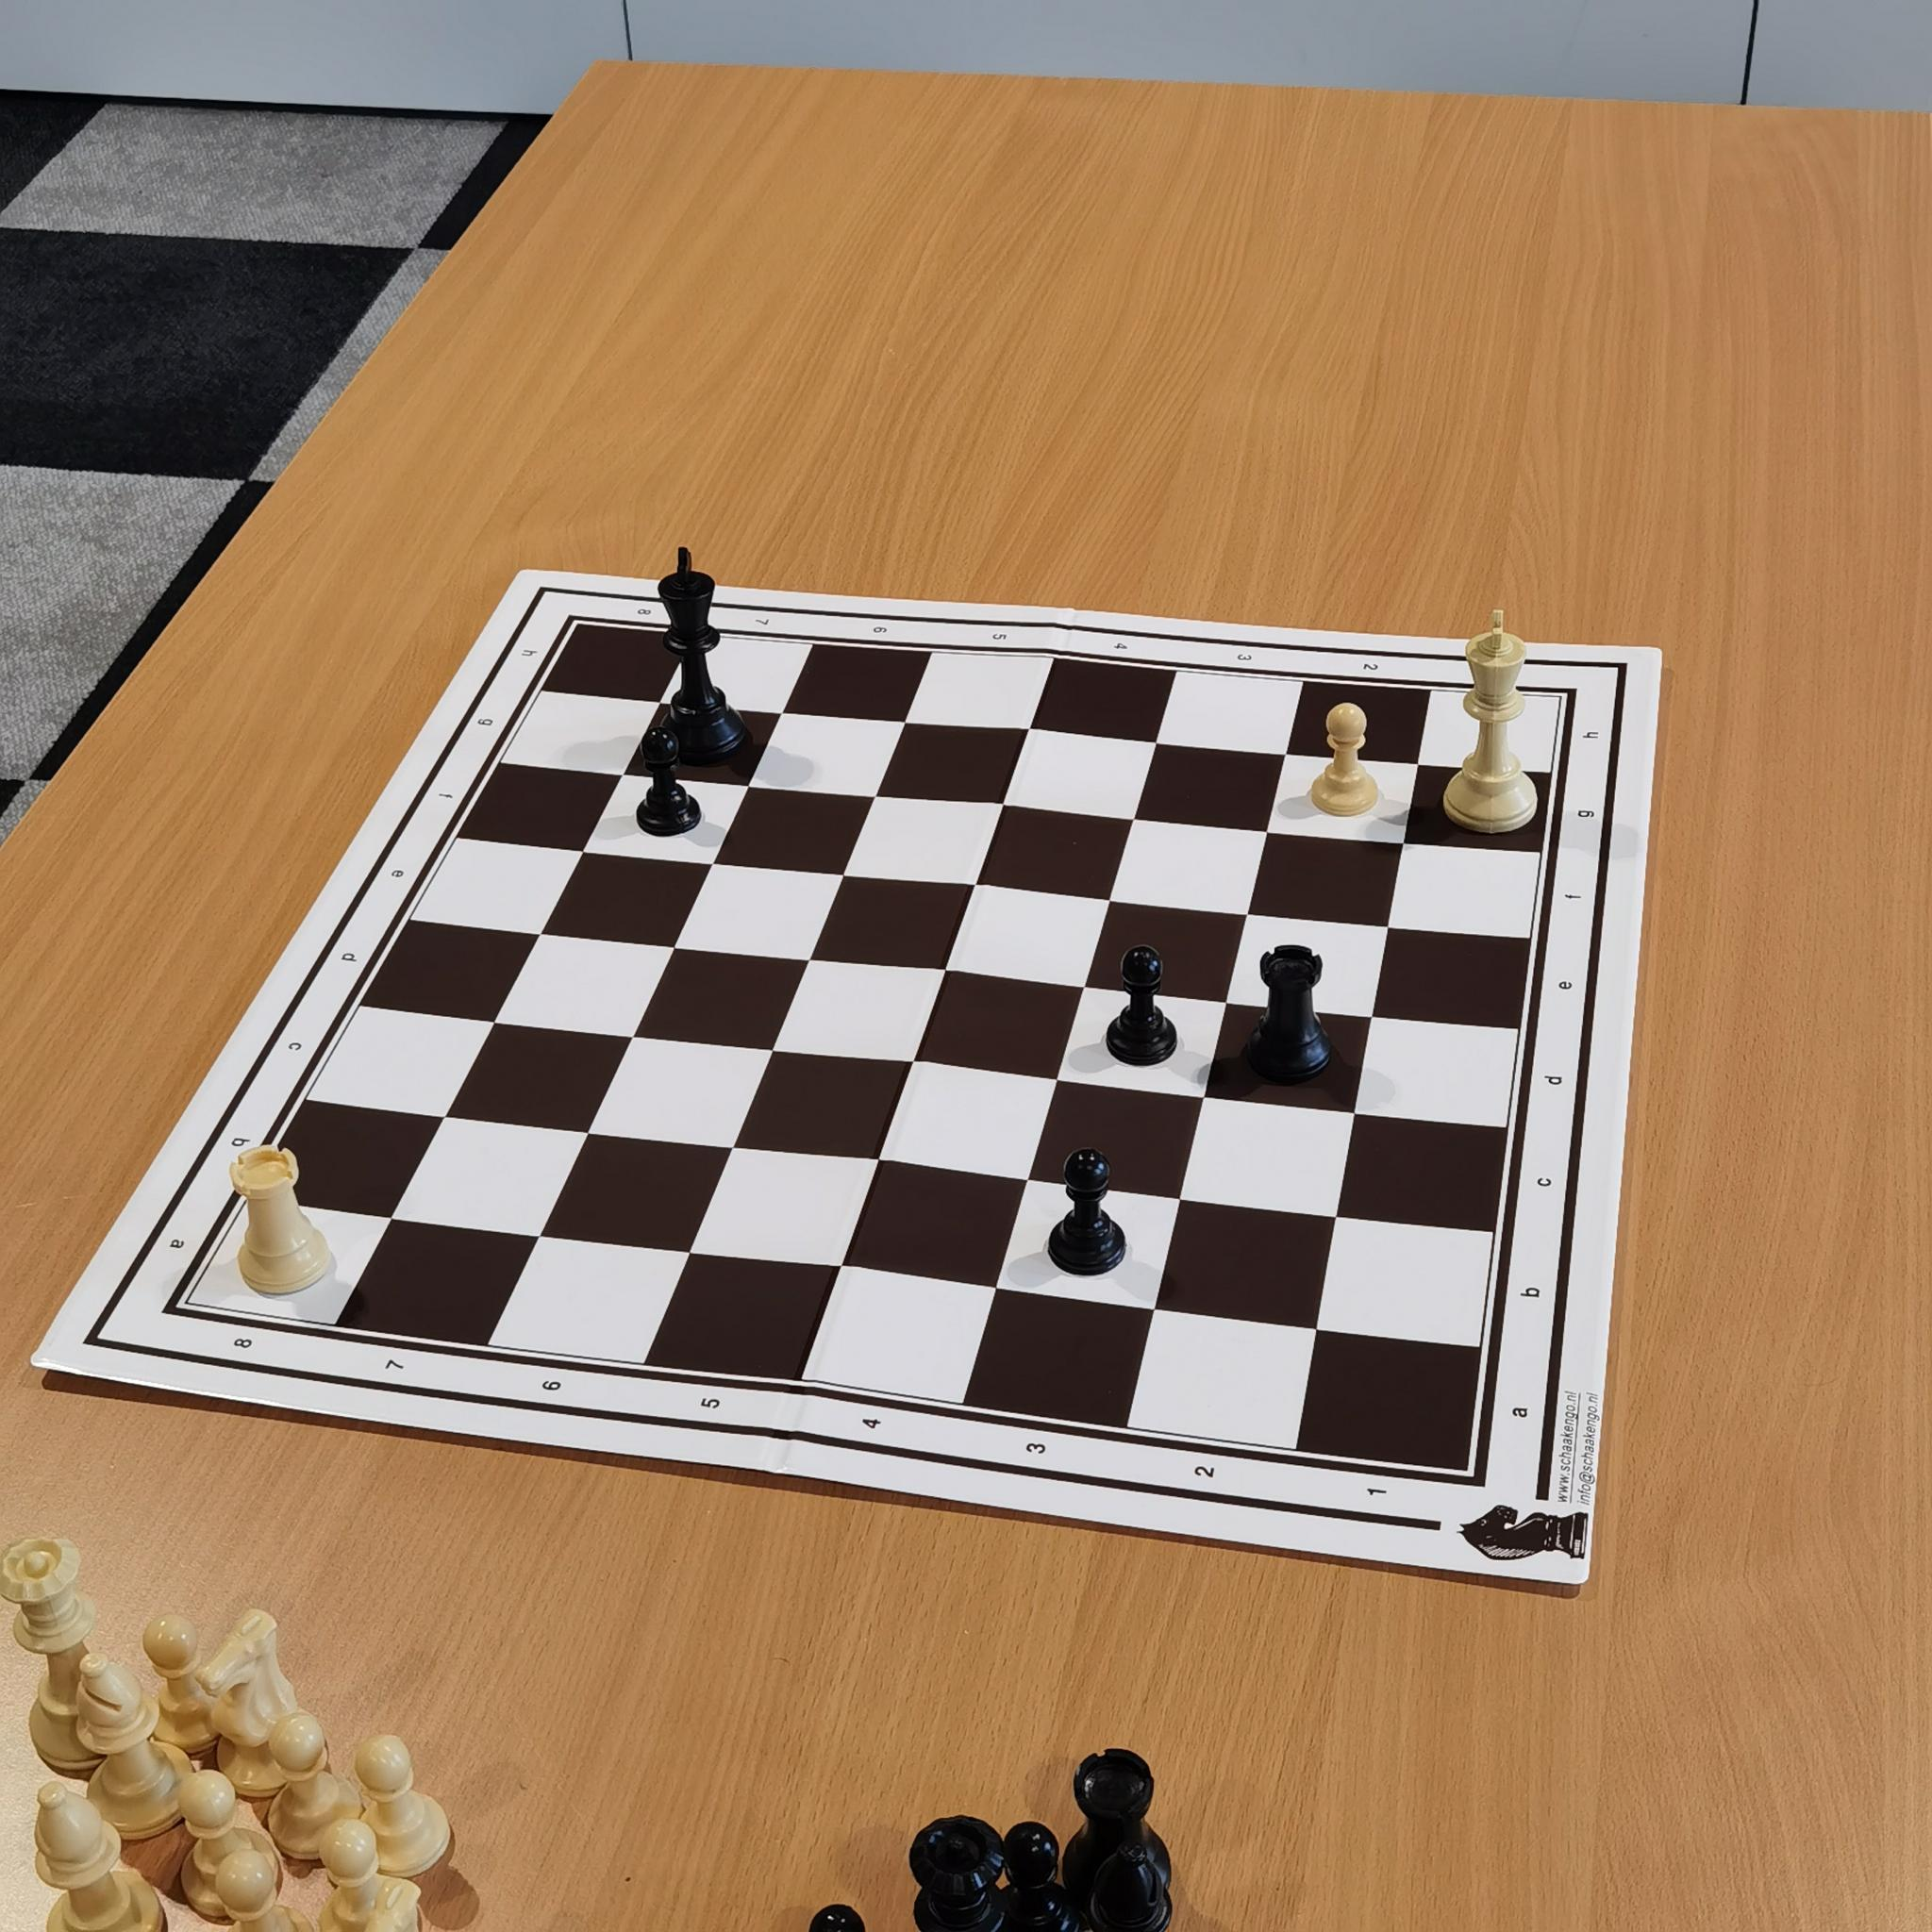corners: (159, 1276, 216, 1327), (1440, 1442, 1488, 1497), (559, 605, 603, 646), (1541, 681, 1578, 717)
eight: (221, 1323, 265, 1369), (628, 598, 665, 630)
one: (1348, 1465, 1408, 1514), (1476, 656, 1513, 690)
